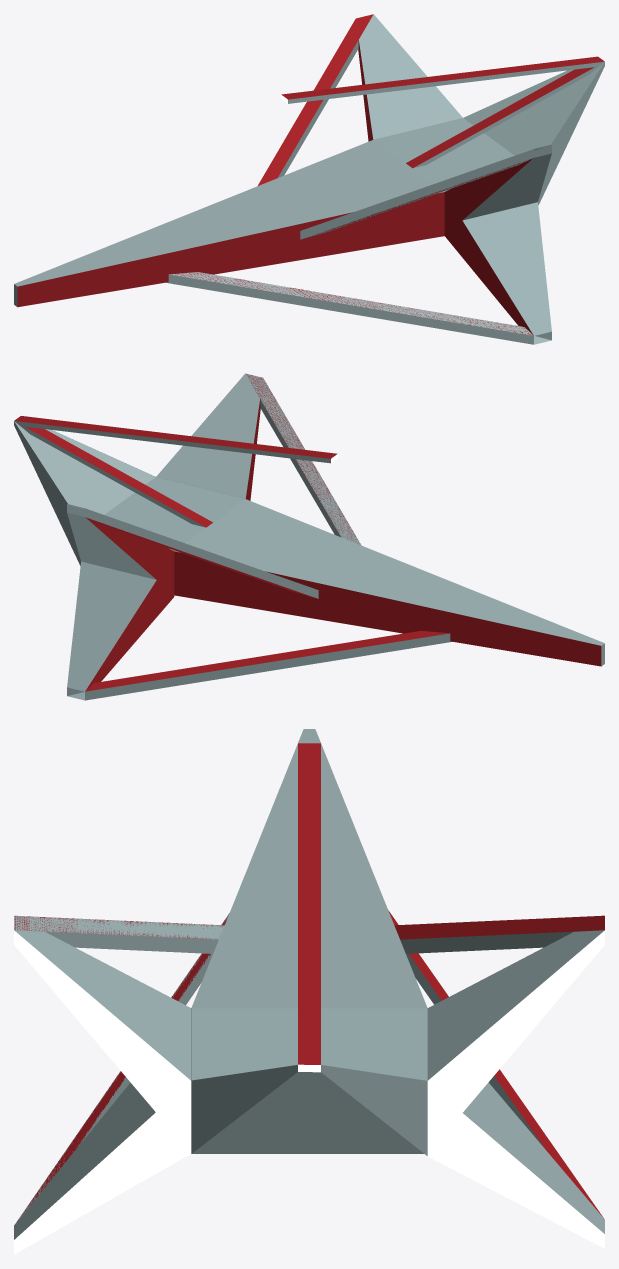
Rendered from enemy2.glb.
3 views of the same model, one above another, from view 1: azimuth 30°, elevation 25°; view 2: azimuth 150°, elevation 25°; view 3: azimuth 270°, elevation 25° (orthographic). The views are drawn at different scales.
Parts seen in each view (by area): view 1: Cube; view 2: Cube; view 3: Cube.
Part boxes in pixels (x1,y1,x2,y2): Cube: (14, 14, 604, 344); Cube: (14, 373, 604, 700); Cube: (14, 729, 604, 1254).
Bounding box in the file's own units: 9.49 × 3.43 × 5.
